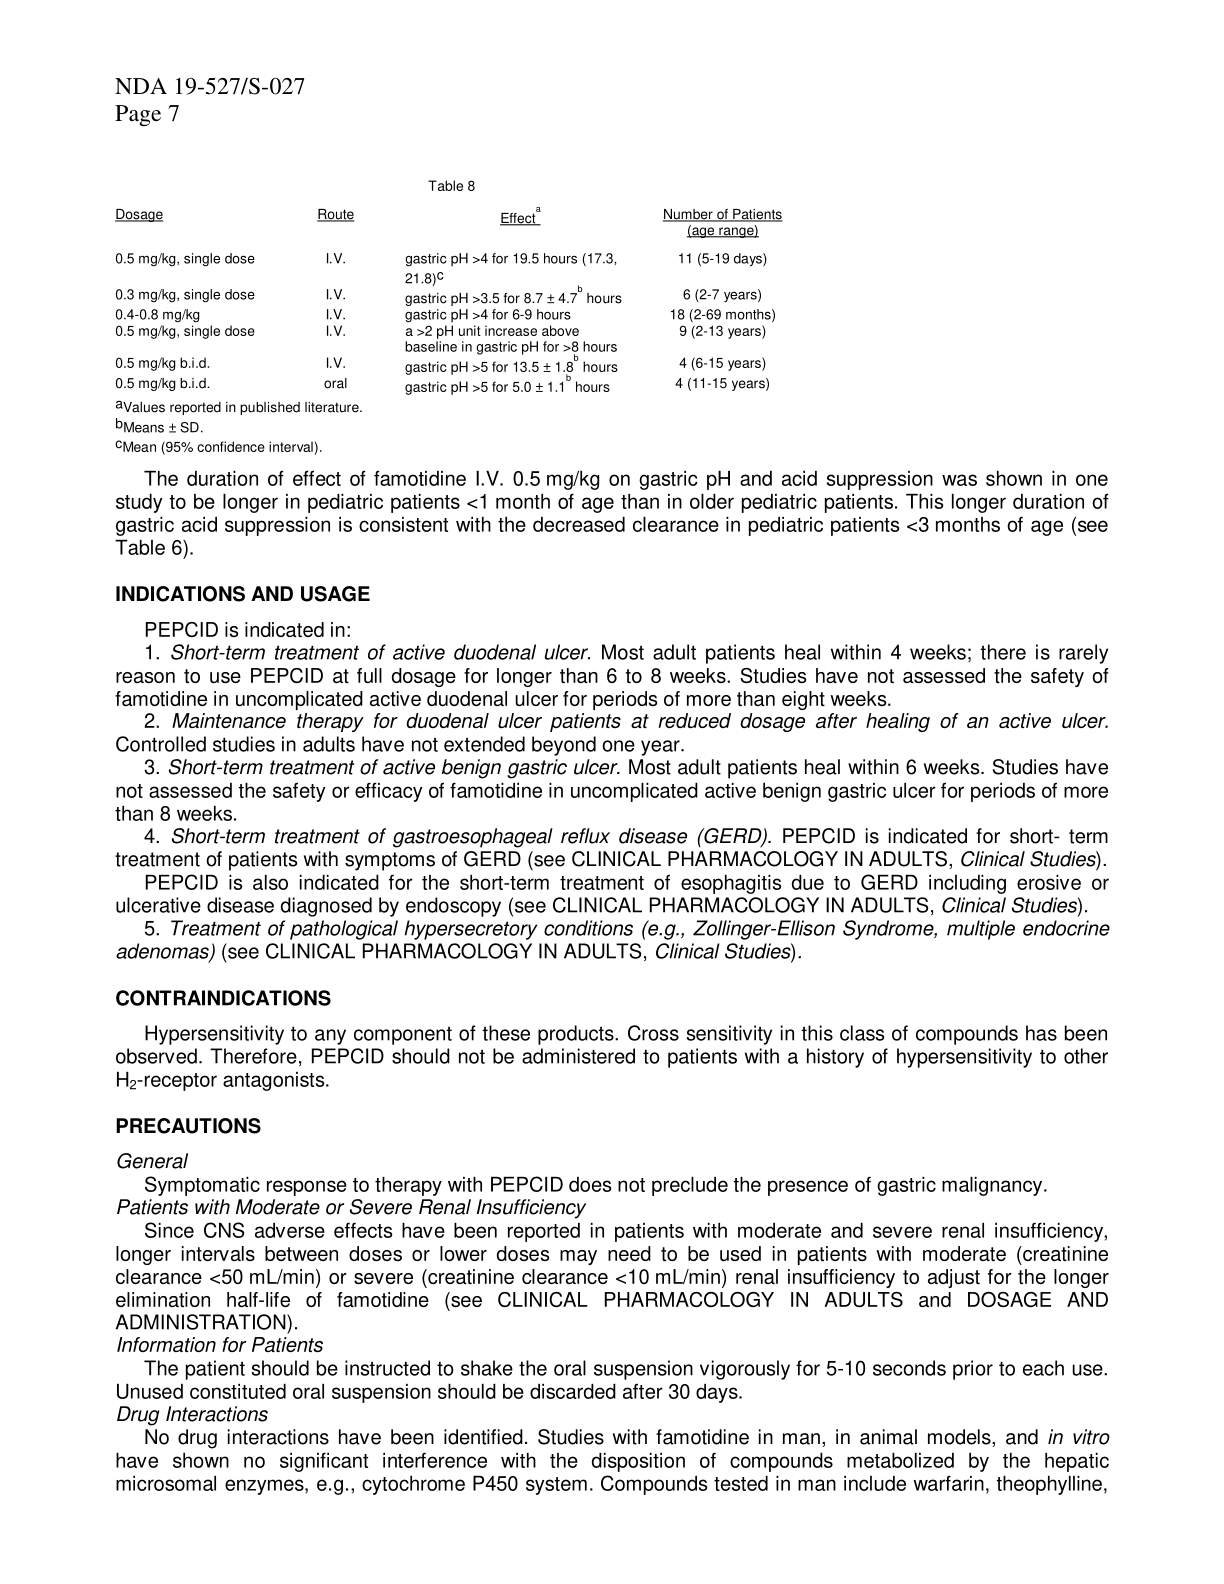nolines: (111, 201, 786, 396)
